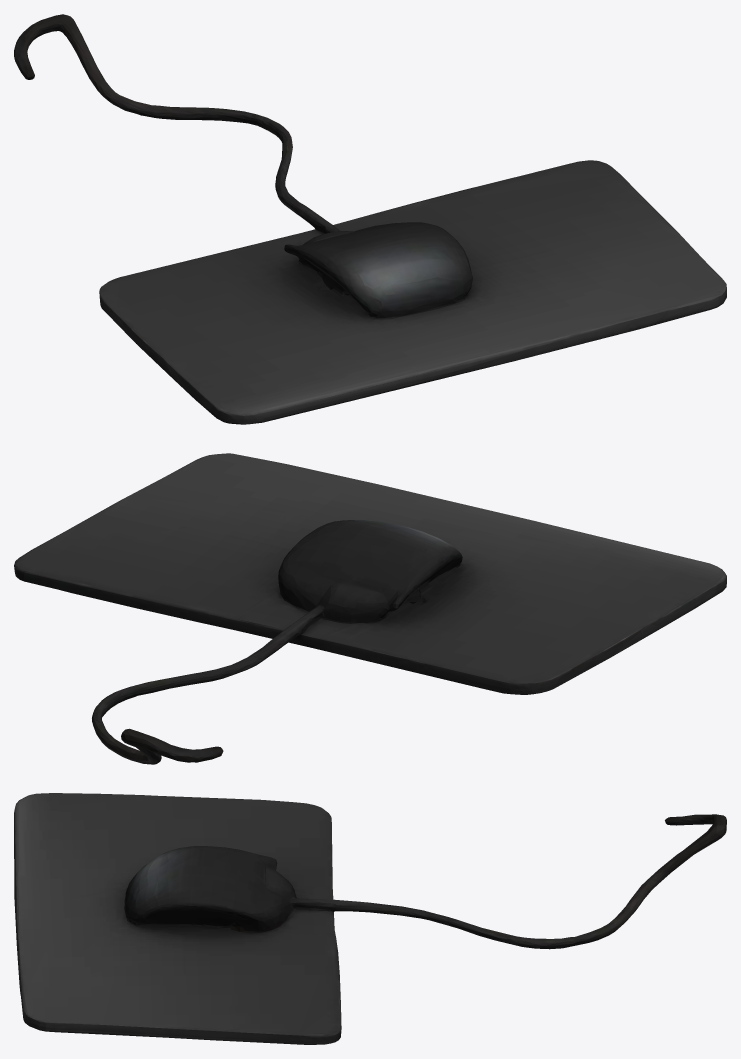
File: desk_mouse.glb
3 views of the same model, one above another, from view 1: azimuth 30°, elevation 25°; view 2: azimuth 150°, elevation 25°; view 3: azimuth 270°, elevation 25° (orthographic). The views are drawn at different scales.
Visible parts, largest first — view 1: geometry_0; view 2: geometry_0; view 3: geometry_0.
Boxes of the visible parts, bbox=[...] form: geometry_0: bbox=[14, 14, 726, 424]; geometry_0: bbox=[14, 453, 726, 764]; geometry_0: bbox=[14, 793, 726, 1044].
Size of the model in its own units: 0.8061 by 0.1165 by 0.9981.
Materials: 1 (1 with a texture image).
